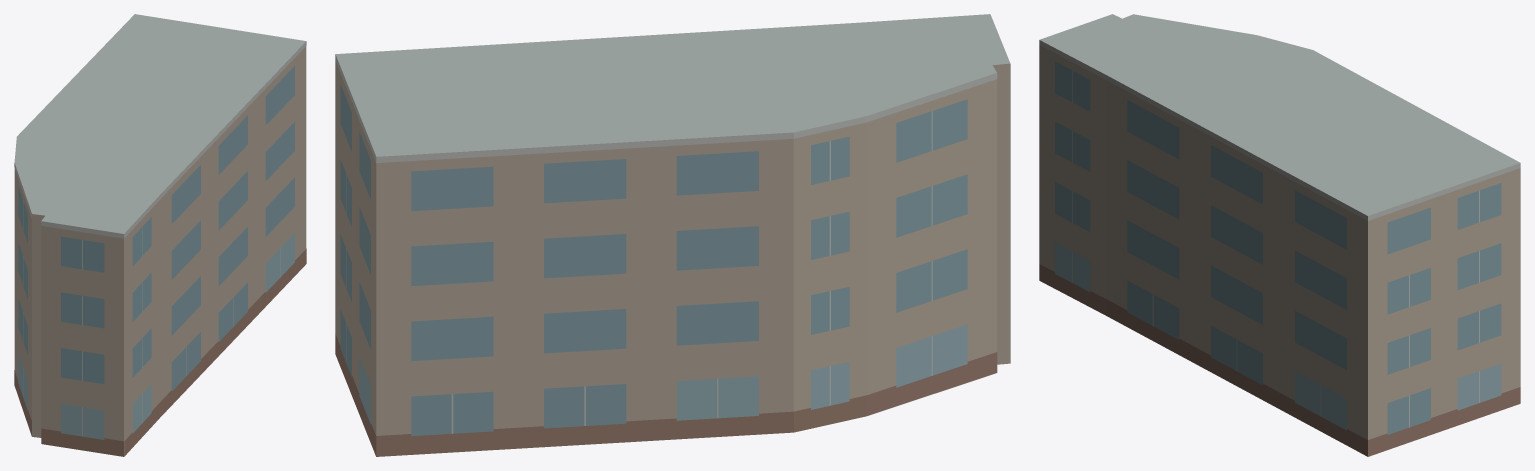
Rendered from survey-upis-32585925.glb.
The picture shows the model from 3 angles, left to right: view 1: azimuth 30°, elevation 25°; view 2: azimuth 150°, elevation 25°; view 3: azimuth 270°, elevation 25°; orthographic projection. The views are drawn at different scales.
Visible parts, largest first — view 1: survey-upis-32585925.tmp; view 2: survey-upis-32585925.tmp; view 3: survey-upis-32585925.tmp.
Part boxes in pixels (<box>): survey-upis-32585925.tmp: <box>14,14,306,456</box>; survey-upis-32585925.tmp: <box>335,14,1010,456</box>; survey-upis-32585925.tmp: <box>1039,14,1520,456</box>.
Size of the model in its own units: 21.07 by 11.7 by 21.21.
